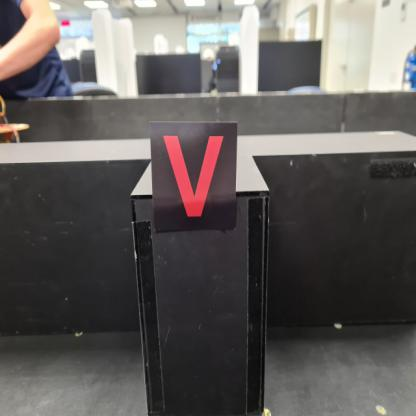v: (150, 121, 238, 233)
